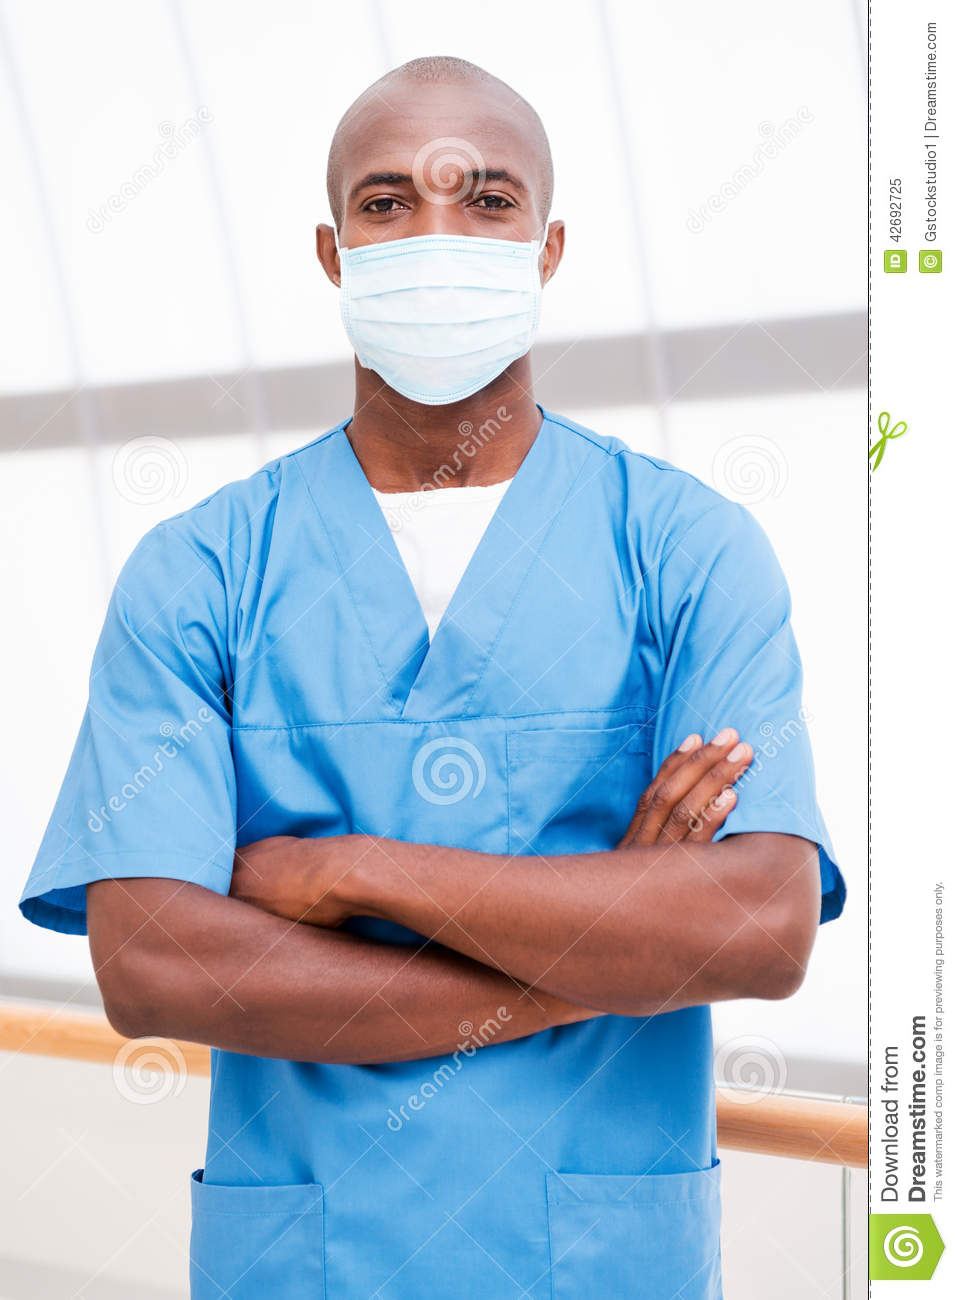mask: (329, 231, 555, 399)
